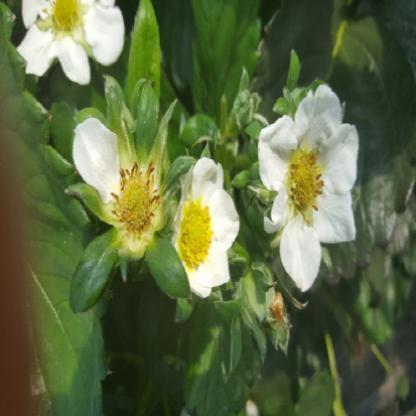Strawberry_Blossom_Blight: (108, 158, 166, 240), (283, 141, 327, 228)
